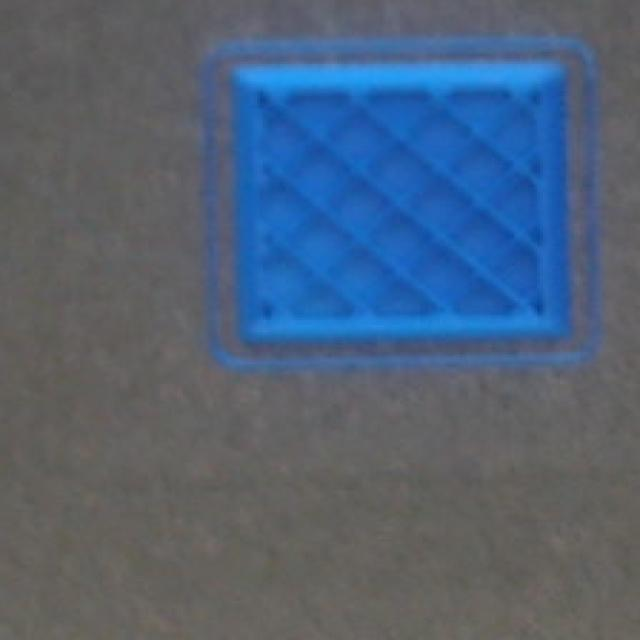noMistake: (228, 62, 584, 348)
